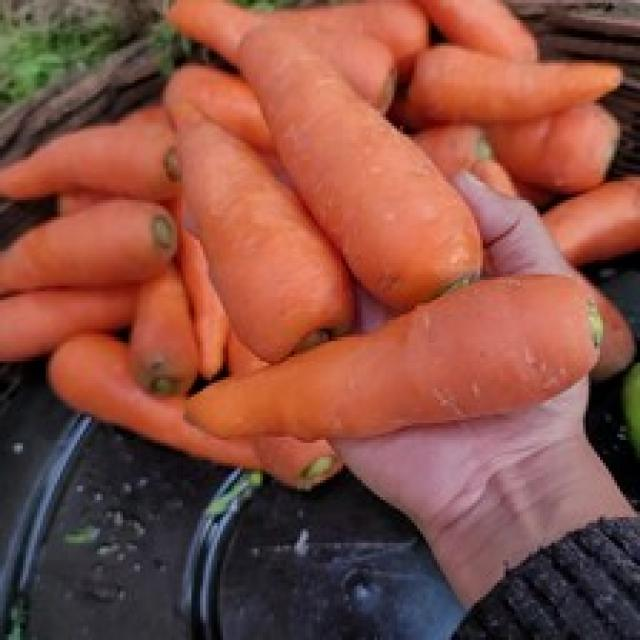Fresh_Carrot: (202, 270, 578, 452), (227, 19, 487, 280), (158, 89, 356, 370)
